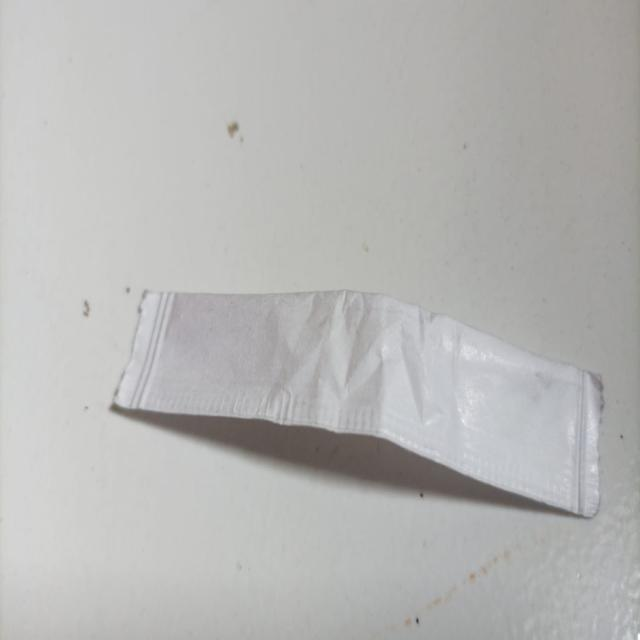Organik: (116, 287, 604, 519)
